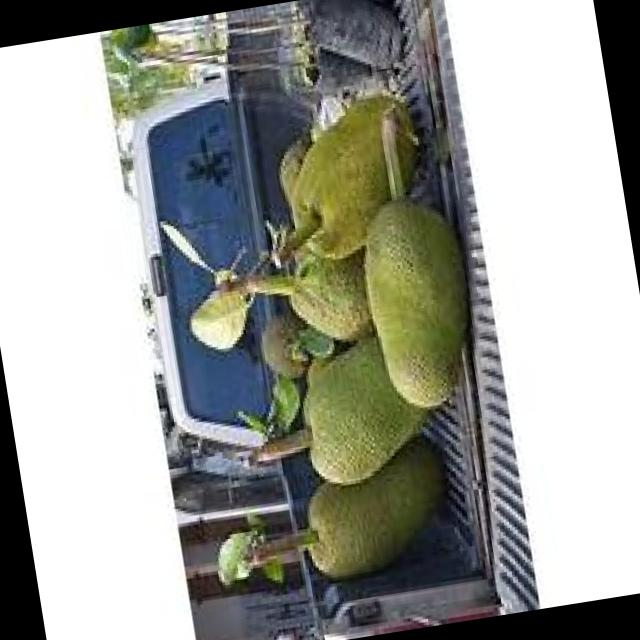Fruit: (292, 70, 502, 456)
